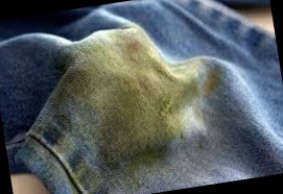earth: (76, 49, 211, 163)
